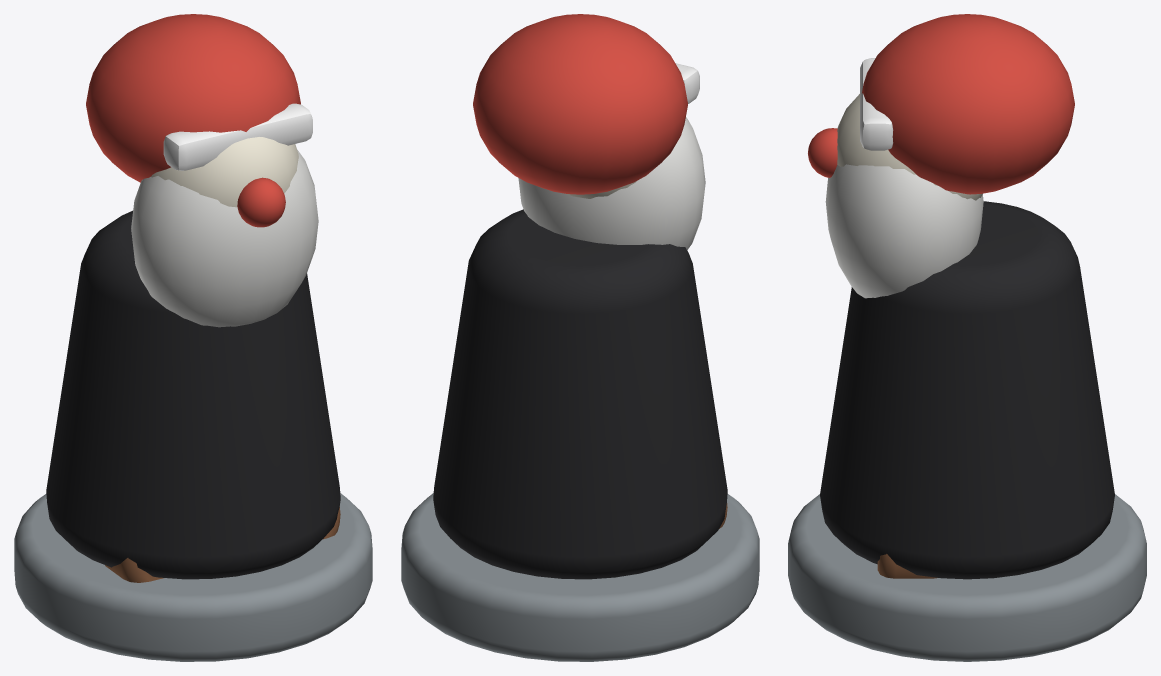
Rendered from trinket_gnome.glb.
3 renders of one model, left to right at view 1: azimuth 30°, elevation 25°; view 2: azimuth 150°, elevation 25°; view 3: azimuth 270°, elevation 25°, orthographic.
Parts seen in each view (by area): view 1: SM_trinket_gnome; view 2: SM_trinket_gnome; view 3: SM_trinket_gnome.
Boxes of the visible parts, bbox=[...] form: SM_trinket_gnome: bbox=[14, 14, 372, 661]; SM_trinket_gnome: bbox=[401, 14, 759, 661]; SM_trinket_gnome: bbox=[788, 14, 1146, 661].
Bounding box in the file's own units: 0.2 × 0.348 × 0.2.
